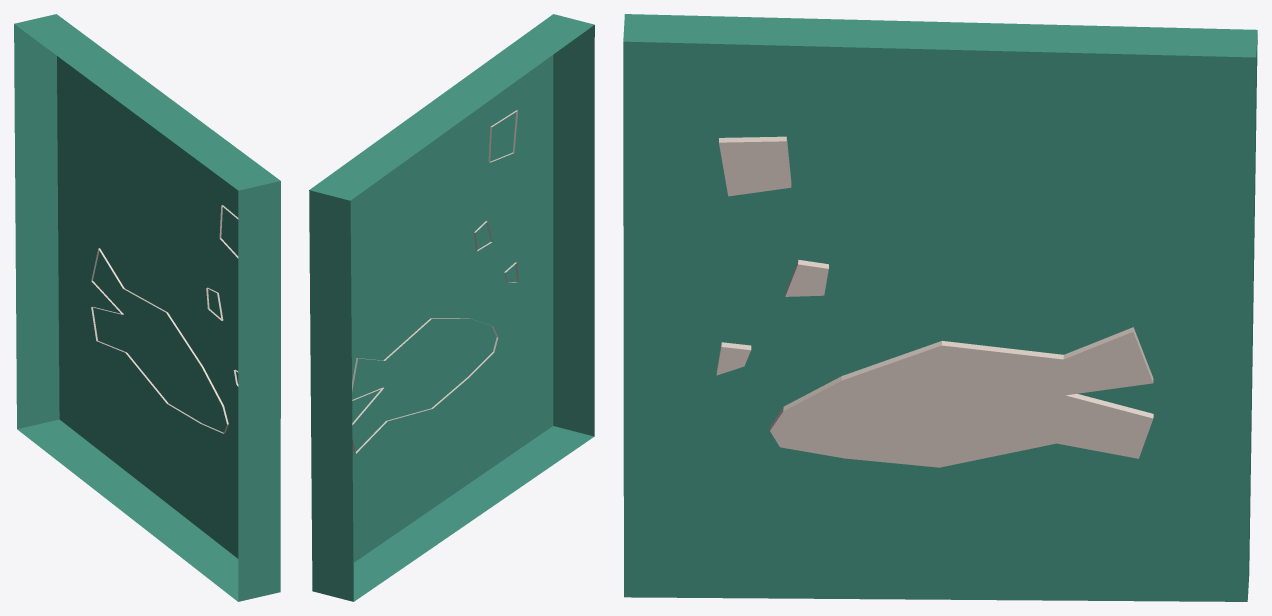
The model's file is Bathroom_Picture.fbx.
3 views of the same model, side by side, from view 1: azimuth 30°, elevation 25°; view 2: azimuth 150°, elevation 25°; view 3: azimuth 270°, elevation 25° (orthographic). The views are drawn at different scales.
Parts seen in each view (by area): view 1: Bathroom_Picture; view 2: Bathroom_Picture; view 3: Bathroom_Picture.
Boxes of the visible parts, box(x1,y1,x2,y2) form: Bathroom_Picture: box(14, 14, 280, 601); Bathroom_Picture: box(309, 14, 594, 601); Bathroom_Picture: box(623, 14, 1257, 601).
Size of the model in its own units: 7.38 by 50.61 by 52.36.
